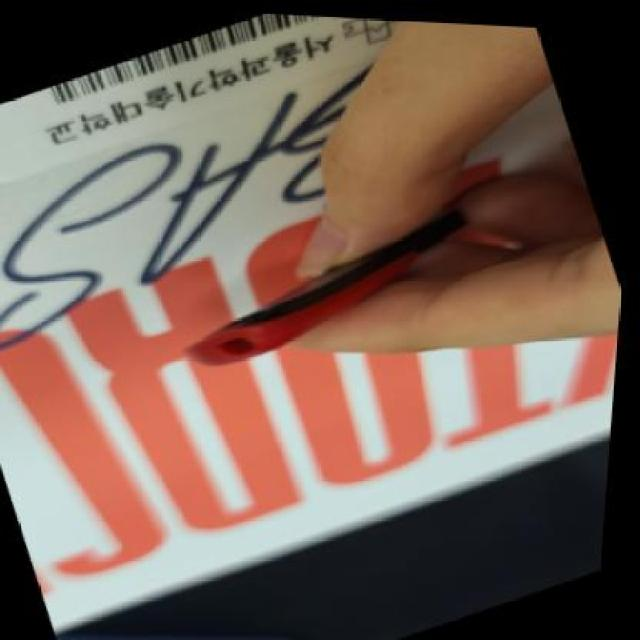Flashdisk: (167, 185, 496, 389)
